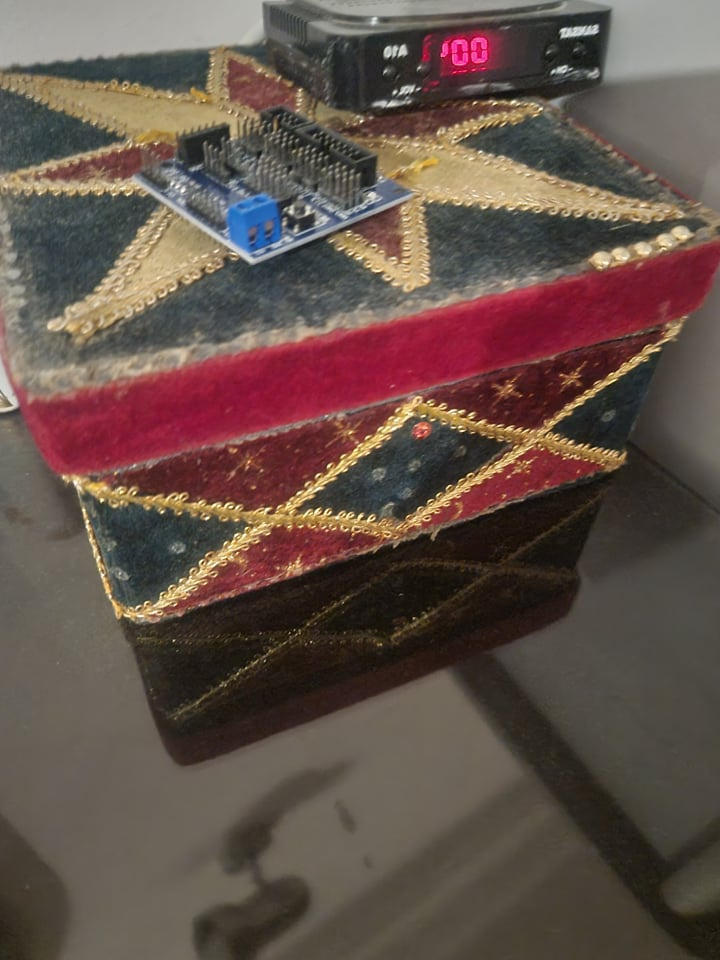5V EXPANSION: (134, 107, 416, 267)
